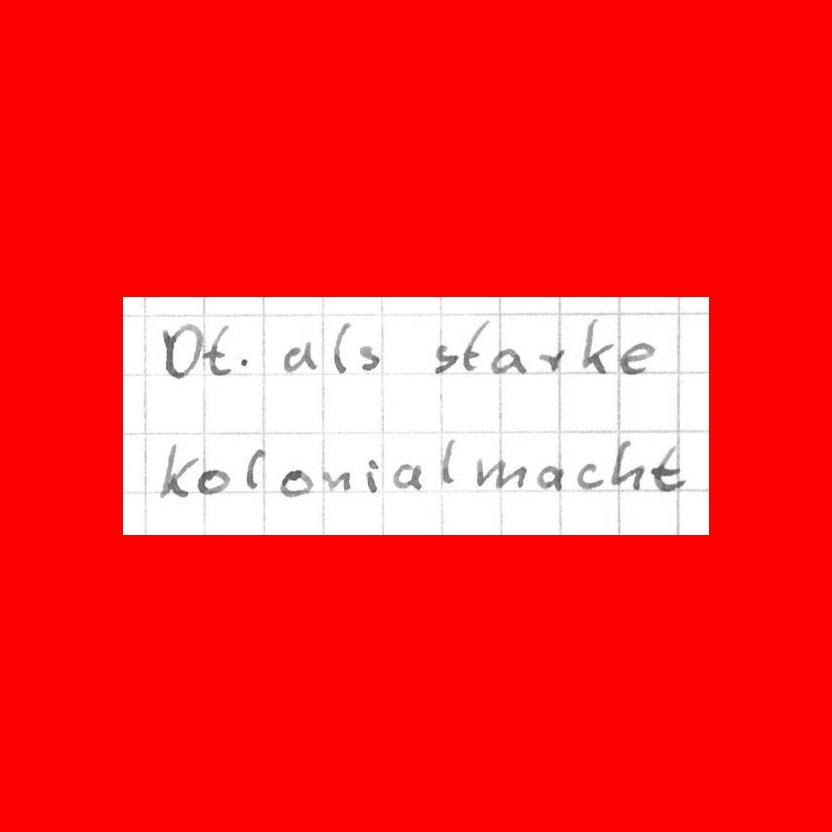Char: (157, 321, 205, 382), (605, 437, 647, 494), (160, 439, 195, 500), (581, 315, 616, 375), (471, 454, 531, 489), (649, 442, 688, 495), (199, 322, 232, 377), (460, 315, 490, 373), (280, 337, 319, 375), (616, 339, 655, 376), (491, 343, 528, 378), (437, 434, 461, 487), (192, 465, 230, 498), (330, 321, 354, 373), (243, 444, 268, 492), (278, 464, 312, 496), (392, 459, 427, 490), (532, 462, 568, 490), (431, 342, 461, 374), (575, 459, 605, 490), (320, 465, 352, 493), (363, 455, 385, 495), (537, 346, 569, 373), (357, 341, 383, 372), (236, 353, 255, 370)
